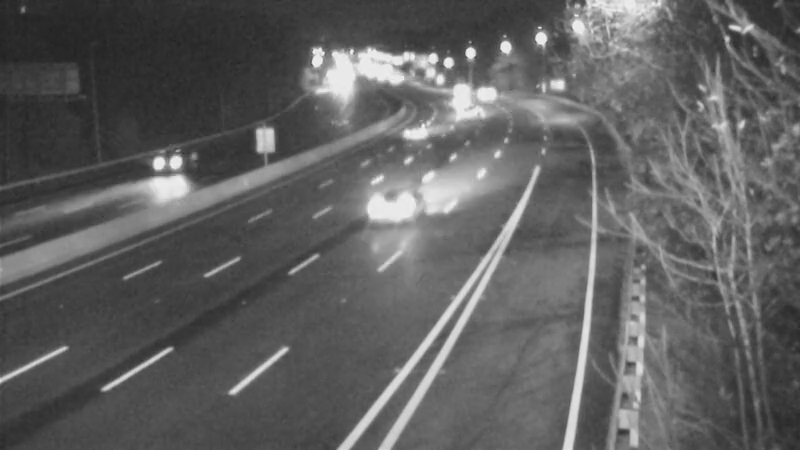vehicle: (367, 157, 447, 237), (139, 119, 219, 199), (460, 64, 510, 114), (438, 74, 488, 124), (439, 88, 489, 138), (399, 108, 449, 158)
